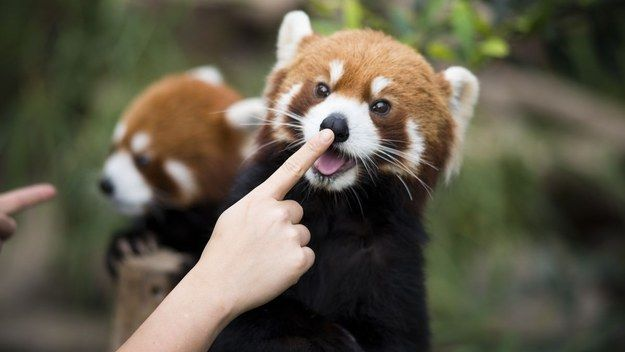red_panda: (258, 31, 468, 334), (96, 63, 263, 274)
